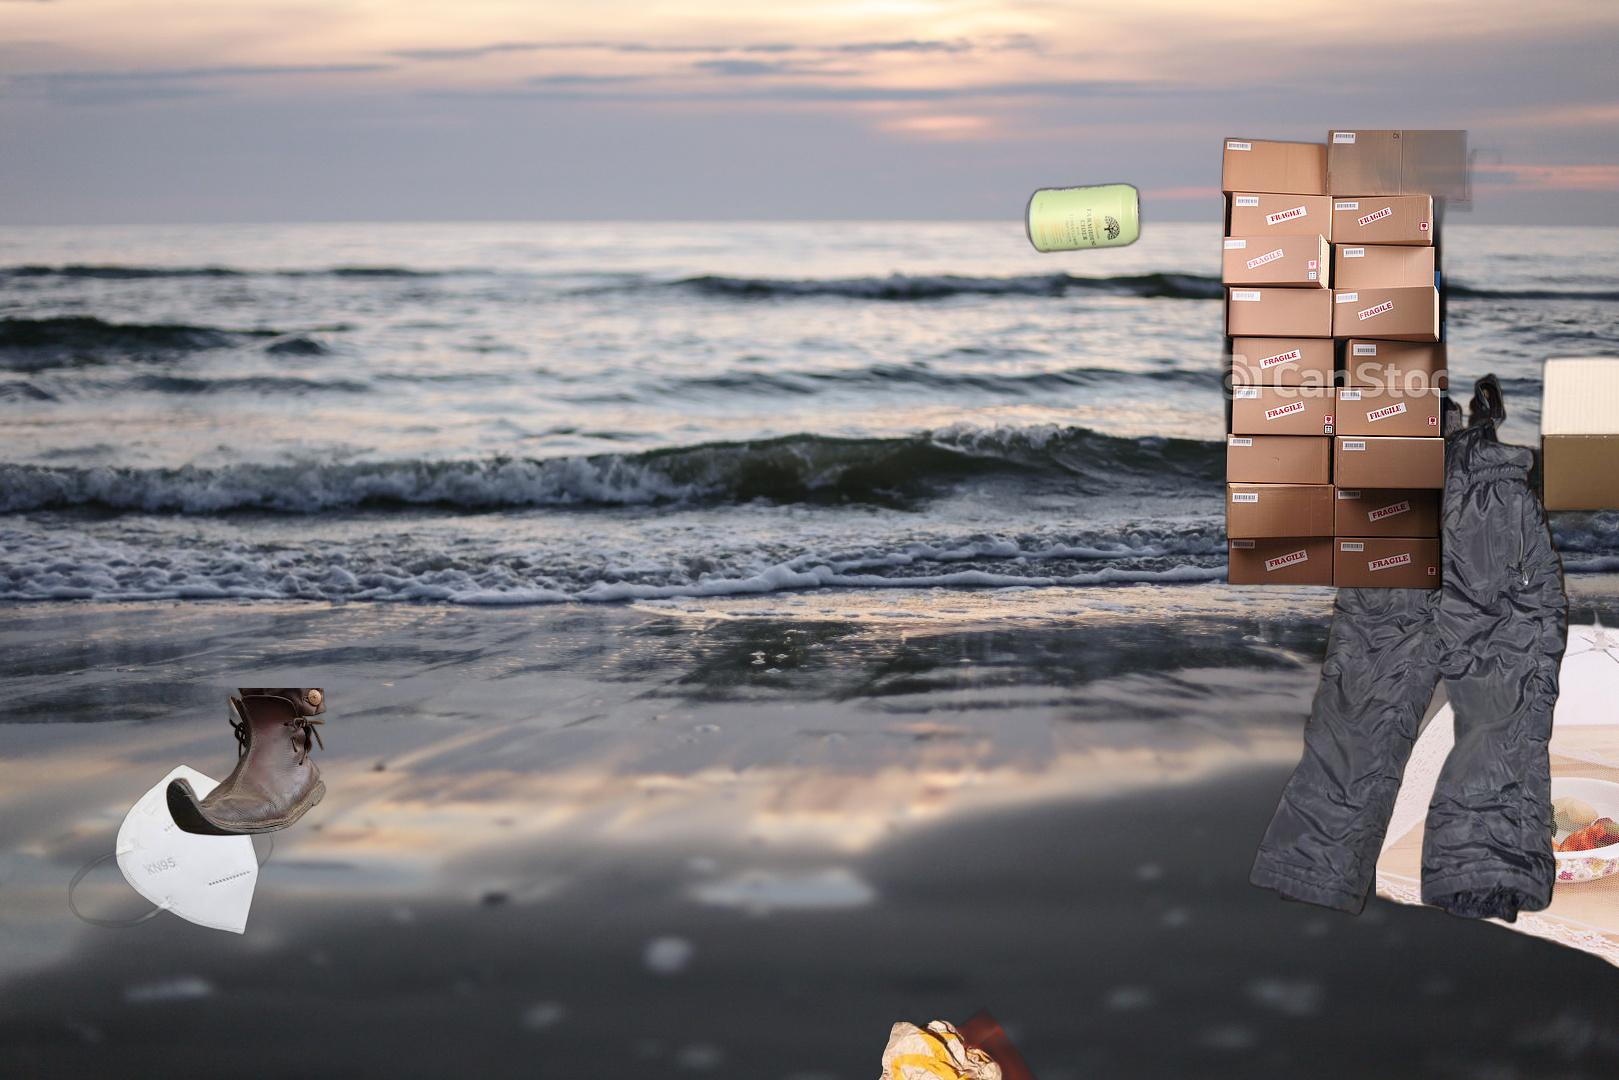biological: (1375, 585, 1619, 1019)
clothes: (1246, 368, 1572, 929)
metal-cans: (1021, 177, 1148, 259)
paper-bag: (856, 998, 1061, 1080)
shoes: (163, 688, 328, 839)
trash: (68, 761, 274, 937)
trashbox-cardboard: (1198, 344, 1619, 988), (1218, 130, 1512, 594)
